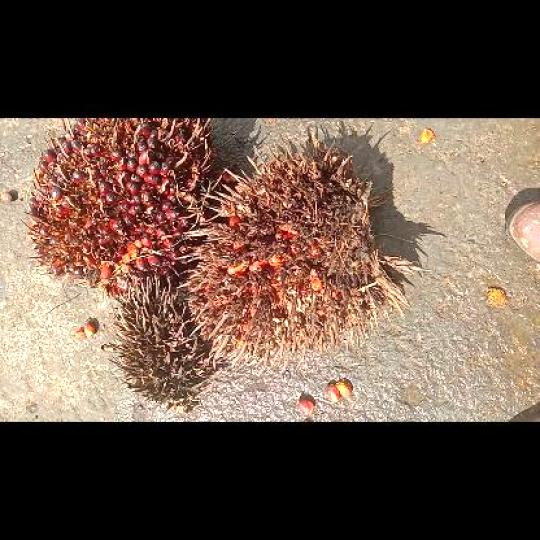masak: (22, 118, 219, 297)
terlalu masak: (177, 130, 412, 368)
